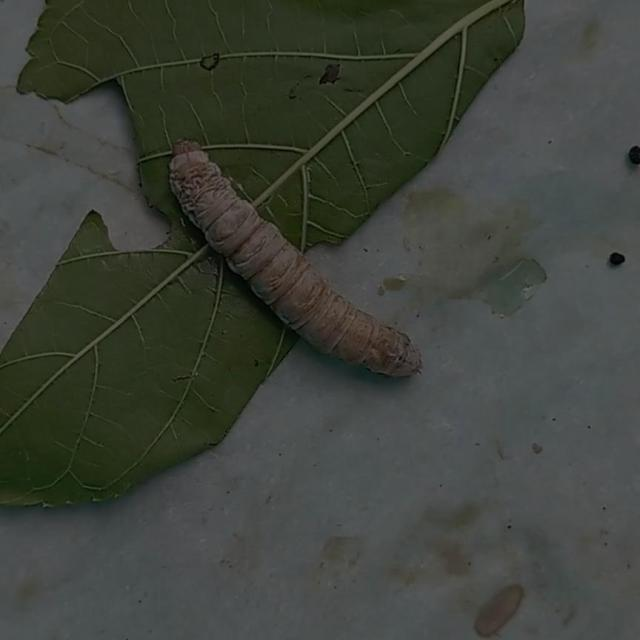Grasserie: (153, 104, 433, 390)
